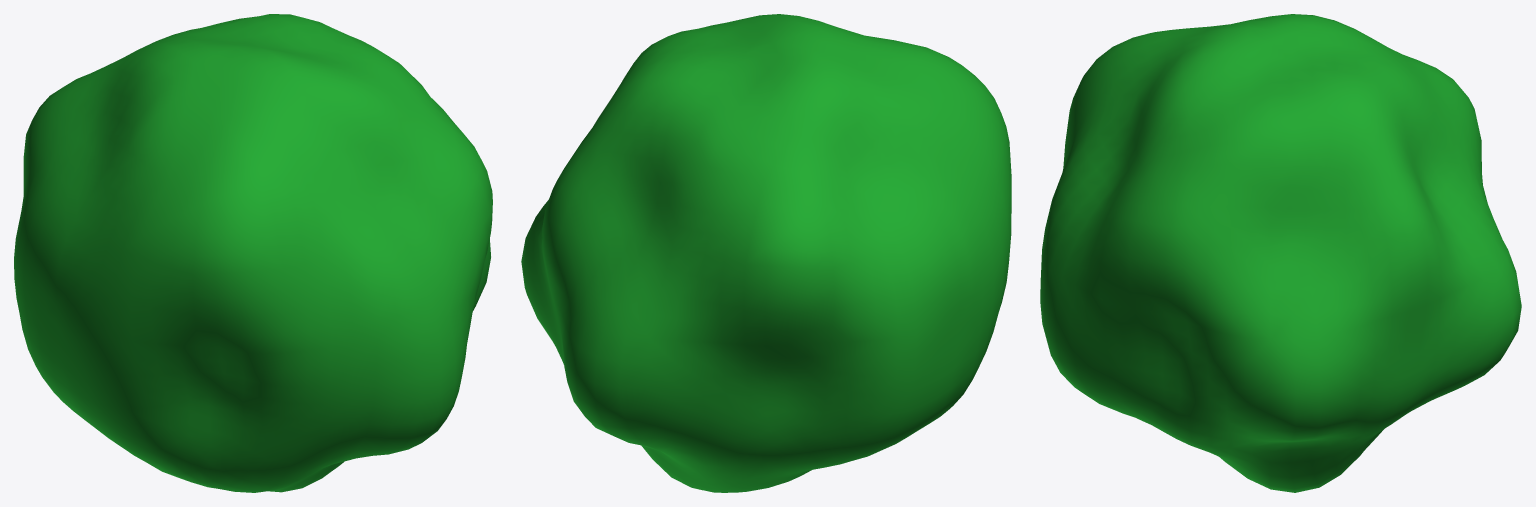
File: planeta_verde.obj
The picture shows the model from 3 angles, left to right: view 1: azimuth 30°, elevation 25°; view 2: azimuth 150°, elevation 25°; view 3: azimuth 270°, elevation 25°; orthographic projection. The views are drawn at different scales.
Parts seen in each view (by area): view 1: planeta_verde; view 2: planeta_verde; view 3: planeta_verde.
Boxes of the visible parts, box(x1,y1,x2,y2) form: planeta_verde: box(14, 14, 492, 492); planeta_verde: box(521, 14, 1011, 492); planeta_verde: box(1040, 14, 1521, 492).
Bounding box in the file's own units: 1.81 × 1.81 × 1.85.
